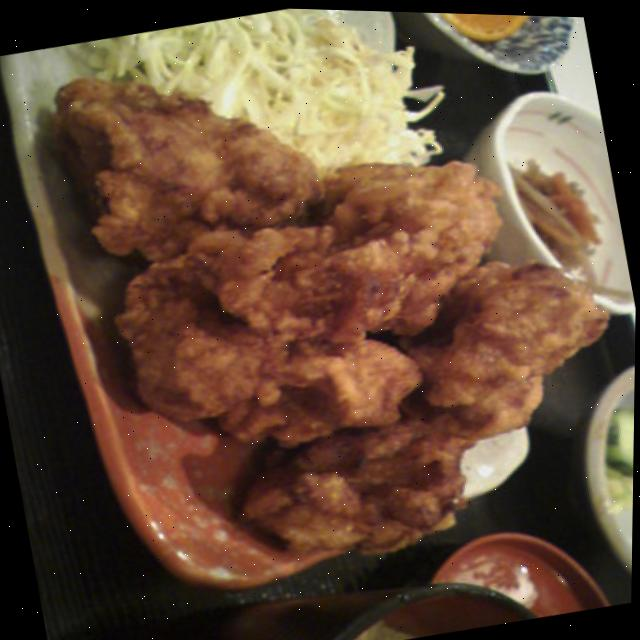鸡肉料理 含炸鸡: (19, 1, 640, 618)
